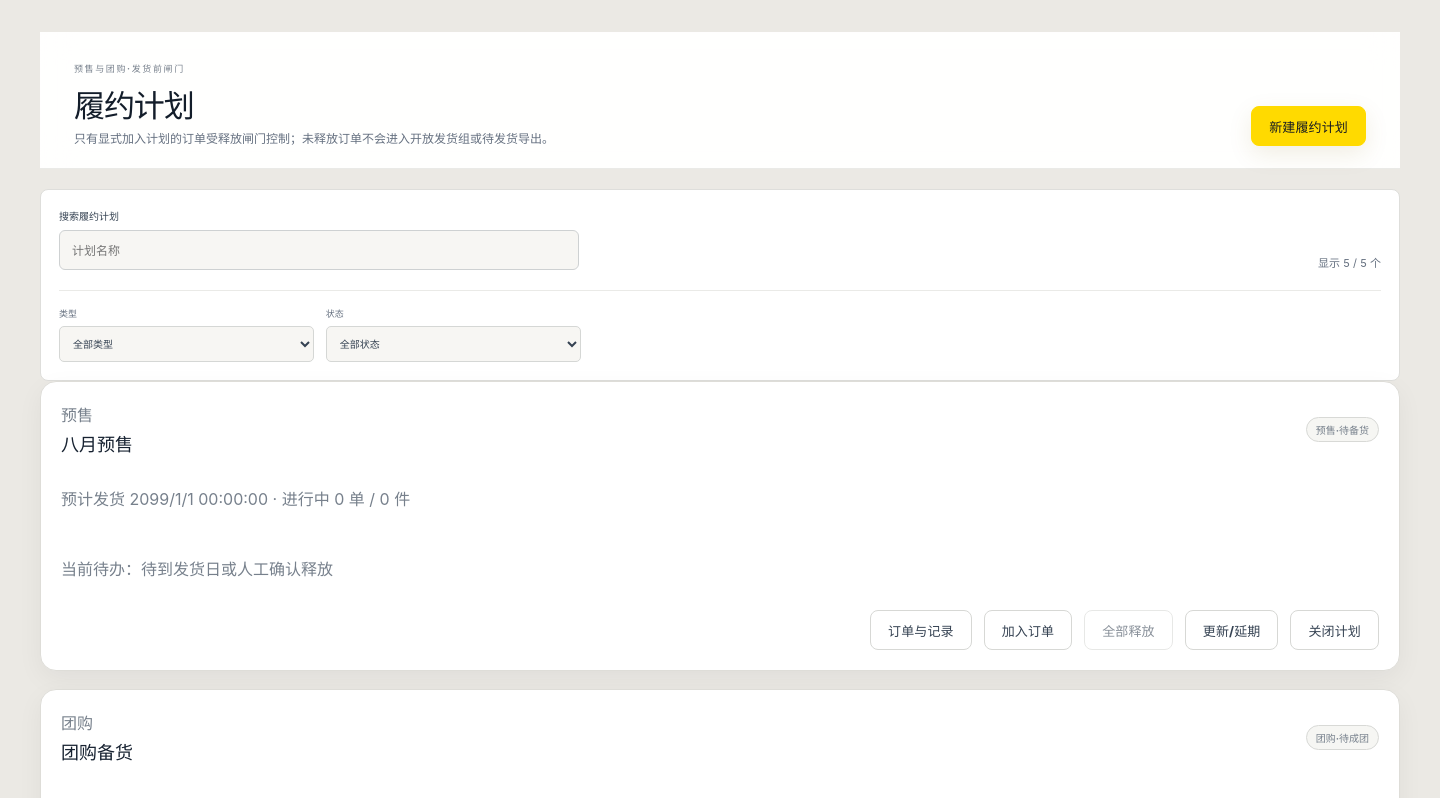
履约计划工作区筛选工具栏 › 按计划名称搜索收窄列表并显示计数，清除后恢复
The image size is (1440, 798).
Expected: the heading "八月预售" is shown, x1=61 y1=430 x2=133 y2=456
Expected: the text "显示 5 / 5 个" is shown, x1=1318 y1=254 x2=1381 y2=270
Type "预售" into the search field labelled "搜索履约计划" at [319, 250], box x1=59 y1=230 x2=579 y2=270
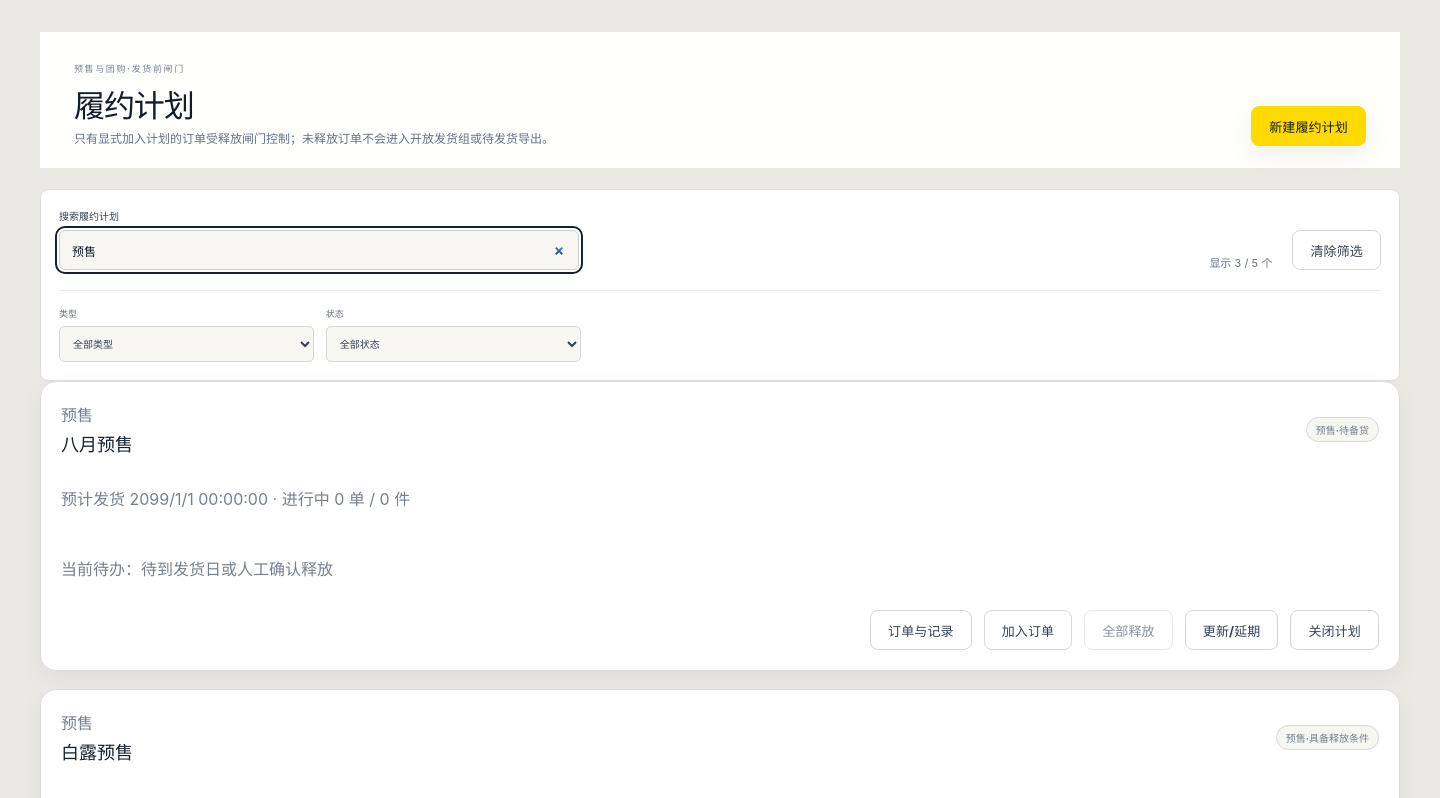
Expected: the heading "八月预售" is shown, x1=61 y1=430 x2=133 y2=456
Now the text "显示 3 / 5 个" is shown, box x1=1209 y1=254 x2=1272 y2=270
Now the heading "团购备货" is gone
Click the button "清除筛选" at [1337, 250], box x1=1292 y1=230 x2=1381 y2=270
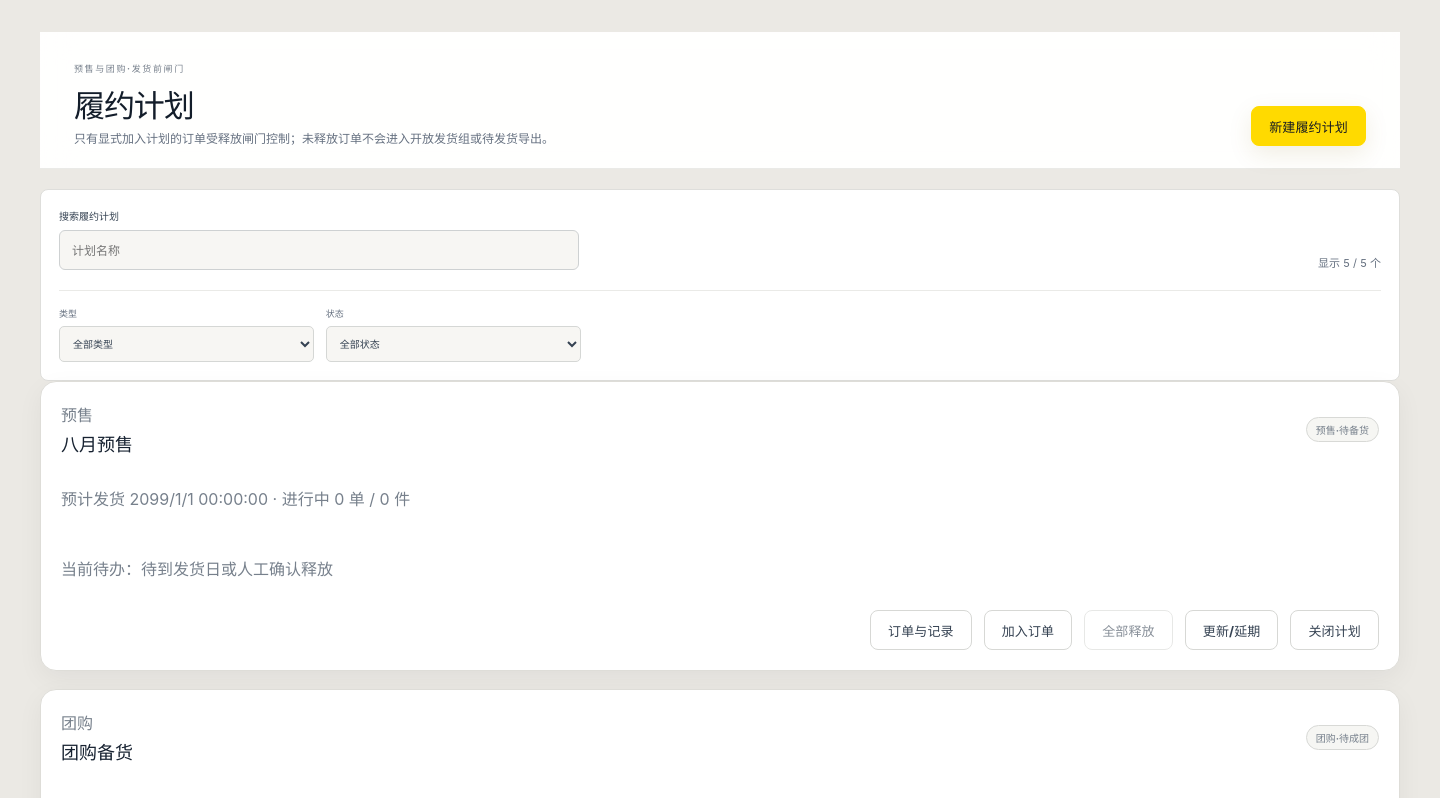
Now the text "显示 5 / 5 个" is shown, box x1=1318 y1=254 x2=1381 y2=270
Now the heading "团购备货" is shown, box x1=61 y1=738 x2=133 y2=764
